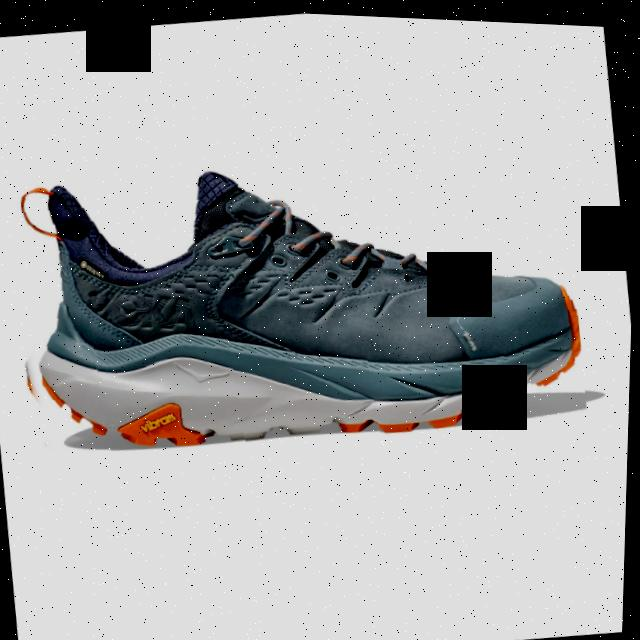shoe: (7, 150, 584, 456)
